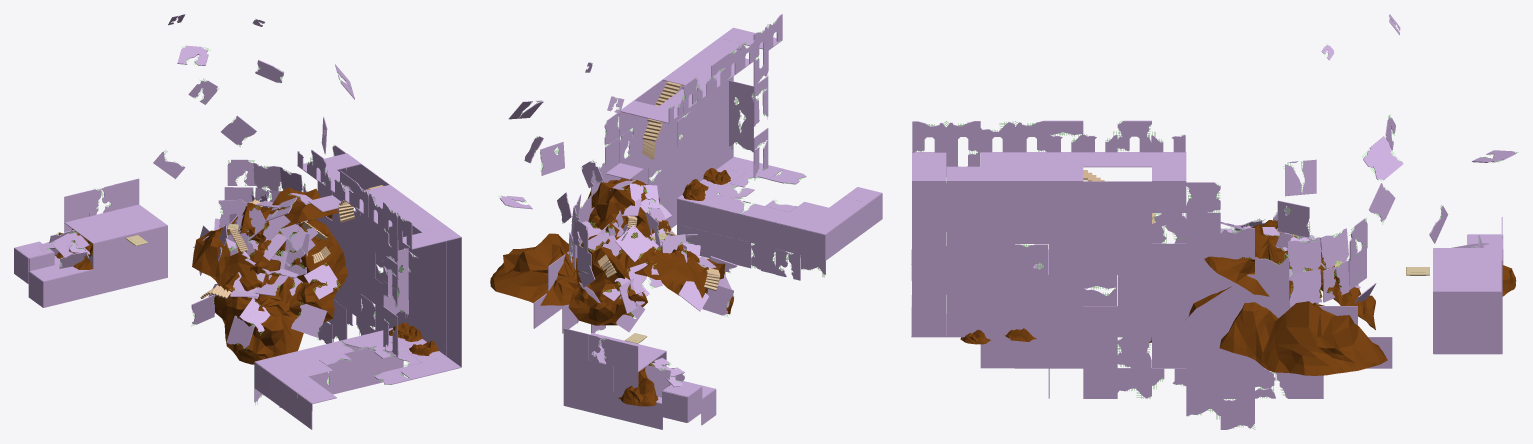
The model's file is lvl 3 yes destruction.fbx.
3 views of the same model, side by side, from view 1: azimuth 30°, elevation 25°; view 2: azimuth 150°, elevation 25°; view 3: azimuth 270°, elevation 25° (orthographic). The views are drawn at different scales.
Visible parts, largest first — view 1: rubble.012, rubble.010, rubble.011, rubble.009, plain wall 6.003, plain wall.878, plain wall.856, plain wall.844, plain wall.860, plain wall.859, plain wall.843, wall fucked 1.007 (+20 smaller); view 2: rubble.014, rubble.013, rubble.009, rubble.010, rubble.016, plain wall 2.003, plain wall.844, plain wall.843, plain wall.848, plain wall.864, plain wall.863, plain wall.874 (+59 smaller); view 3: rubble.014, rubble.009, plain wall.707, plain wall.743, plain wall.749, plain wall.825, plain wall.826, plain wall.833, plain wall.570, plain wall.571, plain wall.572, plain wall.693 (+73 smaller).
Boxes of the visible parts, bbox=[...] form: rubble.012: bbox=[214, 261, 303, 364]; rubble.010: bbox=[192, 219, 280, 300]; rubble.011: bbox=[275, 219, 348, 322]; rubble.009: bbox=[229, 187, 338, 234]; plain wall 6.003: bbox=[291, 302, 327, 337]; plain wall.878: bbox=[93, 238, 118, 269]; plain wall.856: bbox=[43, 276, 68, 307]; plain wall.844: bbox=[64, 190, 89, 222]; plain wall.860: bbox=[68, 270, 93, 301]; plain wall.859: bbox=[93, 264, 118, 295]; plain wall.843: bbox=[114, 178, 139, 210]; wall fucked 1.007: bbox=[304, 263, 340, 299]; rubble.014: bbox=[490, 233, 577, 305]; rubble.013: bbox=[568, 235, 647, 325]; rubble.009: bbox=[581, 178, 671, 254]; rubble.010: bbox=[624, 239, 699, 281]; rubble.016: bbox=[618, 360, 669, 406]; plain wall 2.003: bbox=[615, 225, 652, 261]; plain wall.844: bbox=[613, 340, 638, 372]; plain wall.843: bbox=[563, 328, 588, 360]; plain wall.848: bbox=[662, 391, 687, 422]; plain wall.864: bbox=[775, 223, 800, 254]; plain wall.863: bbox=[800, 229, 825, 260]; plain wall.874: bbox=[588, 360, 613, 391]; rubble.014: bbox=[1219, 297, 1387, 375]; rubble.009: bbox=[1204, 220, 1322, 303]; plain wall.707: bbox=[1014, 181, 1049, 212]; plain wall.743: bbox=[1117, 181, 1151, 212]; plain wall.749: bbox=[1083, 181, 1117, 212]; plain wall.825: bbox=[1049, 337, 1083, 368]; plain wall.826: bbox=[1083, 337, 1117, 368]; plain wall.833: bbox=[1083, 306, 1117, 337]; plain wall.570: bbox=[912, 181, 946, 212]; plain wall.571: bbox=[912, 306, 946, 337]; plain wall.572: bbox=[912, 275, 946, 306]; plain wall.693: bbox=[946, 181, 980, 212].
Size of the model in its own units: 4272 by 4730 by 7078.
